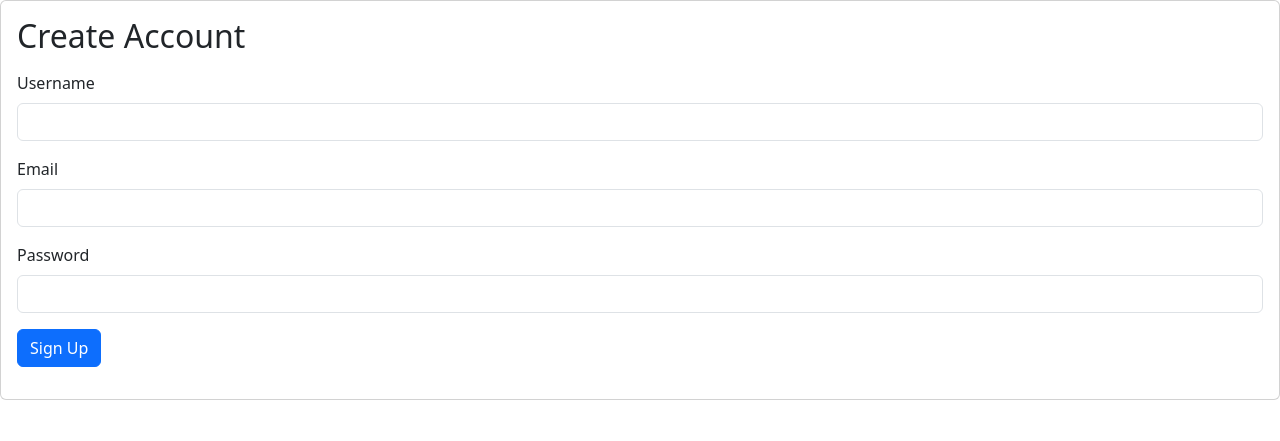
Test: shows a success message when the account is created
Type "ritam" into the field labelled "Username" at (640, 122), box [17, 103, 1263, 141]
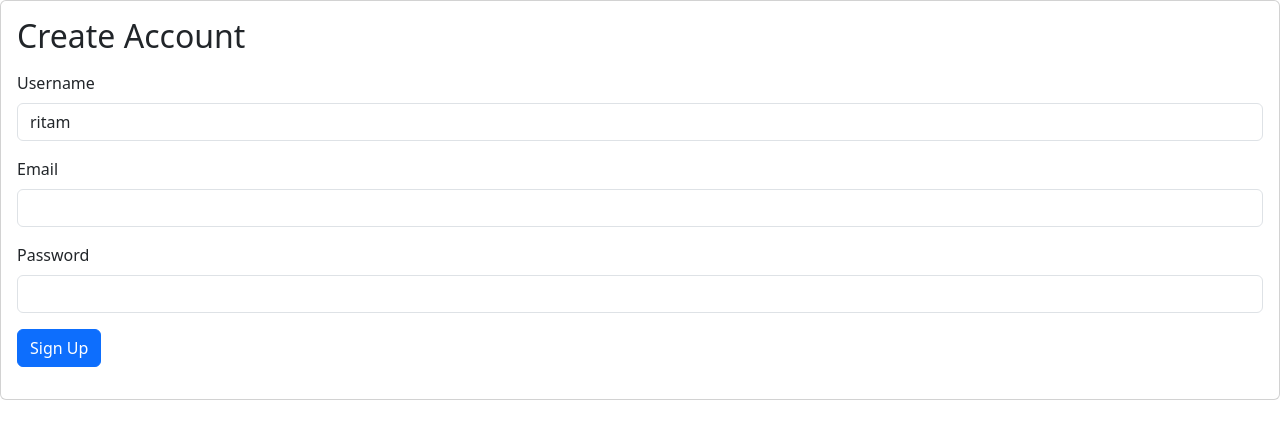
Type "ritam@example.com" into the field labelled "Email" at (640, 208), box [17, 189, 1263, 227]
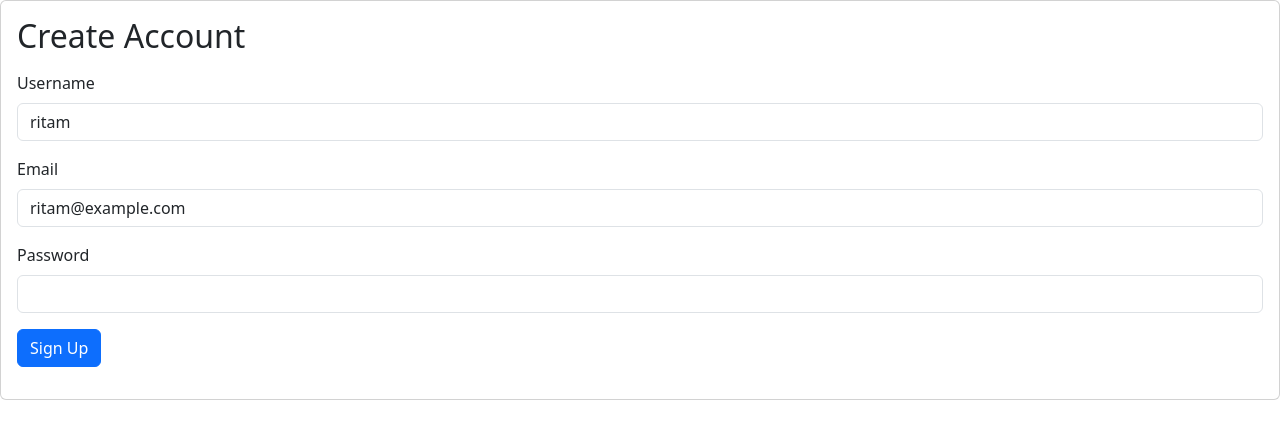
Type "test-password-123" into the password field labelled "Password" at (640, 294), box [17, 275, 1263, 313]
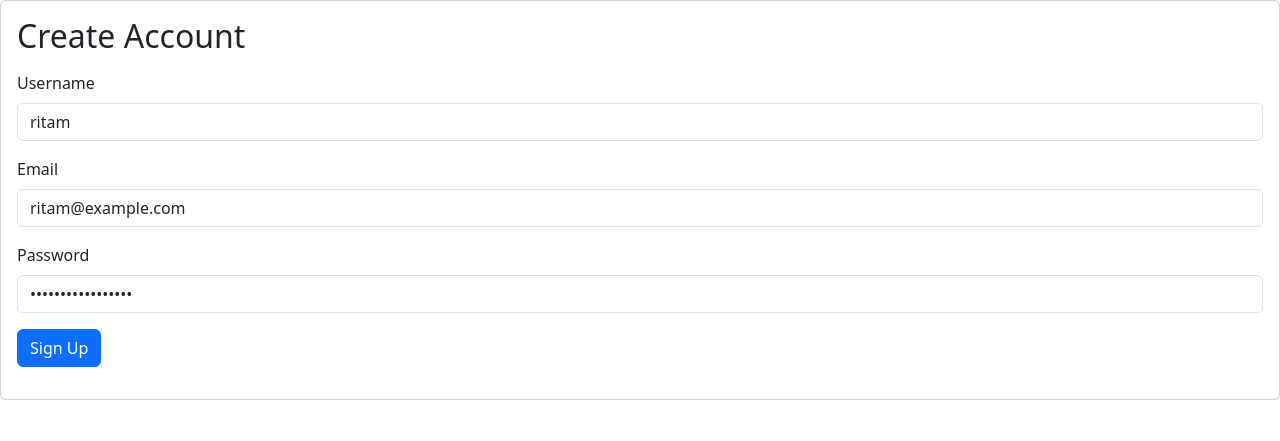
Click the button "Sign Up" at (59, 348), box [17, 329, 101, 367]
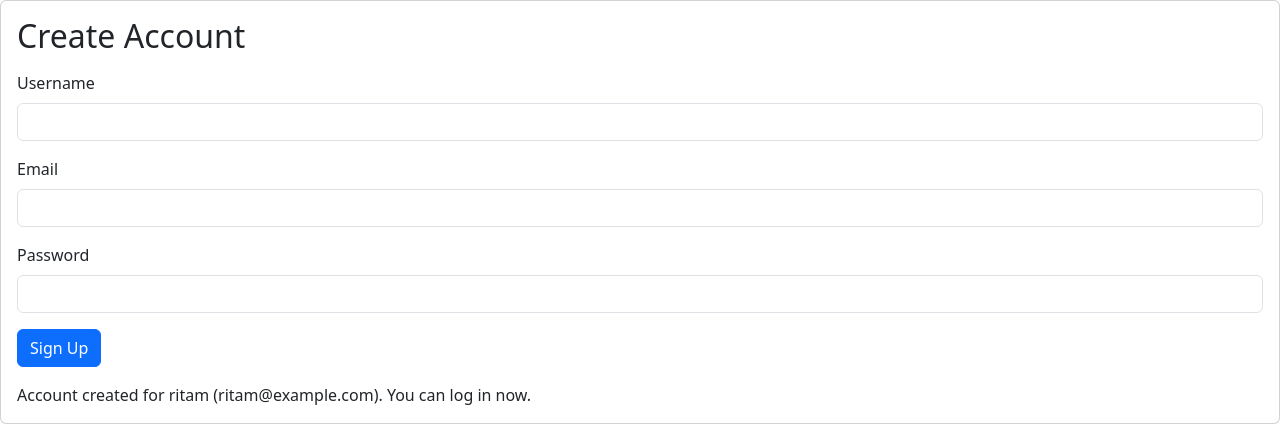
Expected: the text "Account created for ritam (ritam@example.com). You can log in now." is shown, [17, 384, 531, 406]
